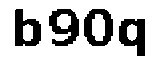0: (83, 6, 115, 50)
9: (47, 6, 80, 49)
b: (10, 5, 45, 49)
q: (117, 15, 148, 60)
